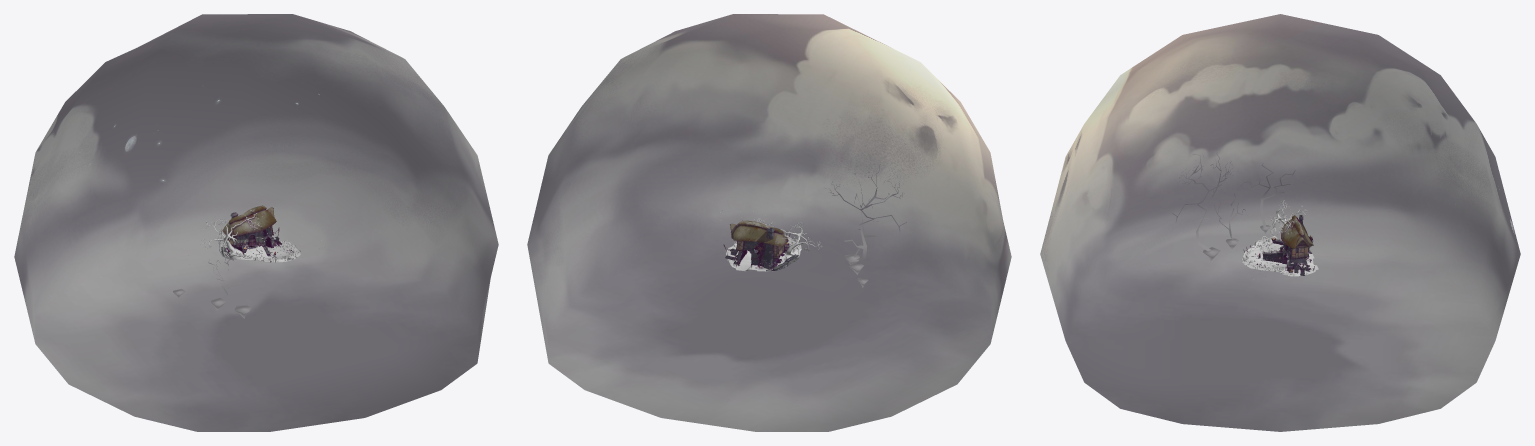
The picture shows the model from 3 angles, left to right: view 1: azimuth 30°, elevation 25°; view 2: azimuth 150°, elevation 25°; view 3: azimuth 270°, elevation 25°; orthographic projection.
Visible parts, largest first — view 1: fondo, suelo, tejado, piedra, vegetacion; view 2: fondo, piedra, tejado, suelo; view 3: fondo, suelo, piedra, tejado, vegetacion.
Part boxes in pixels (x1,y1,x2,y2): fondo: (14,14,498,431); suelo: (204,214,300,262); tejado: (222,205,276,236); piedra: (221,212,283,259); vegetacion: (201,209,321,261); fondo: (527,14,1011,431); piedra: (725,227,798,271); tejado: (730,220,788,246); suelo: (726,224,819,271); fondo: (1040,14,1520,431); suelo: (1242,203,1318,276); piedra: (1251,215,1312,275); tejado: (1281,215,1313,248); vegetacion: (1241,200,1312,275).
Size of the model in its own units: 63.76 by 44.61 by 63.76.
